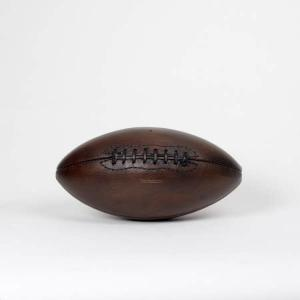Rugby: (54, 125, 243, 222)
